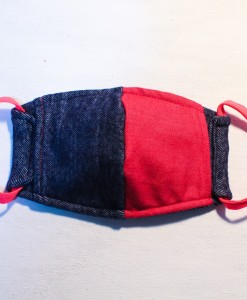barbijo: (1, 86, 247, 227)
